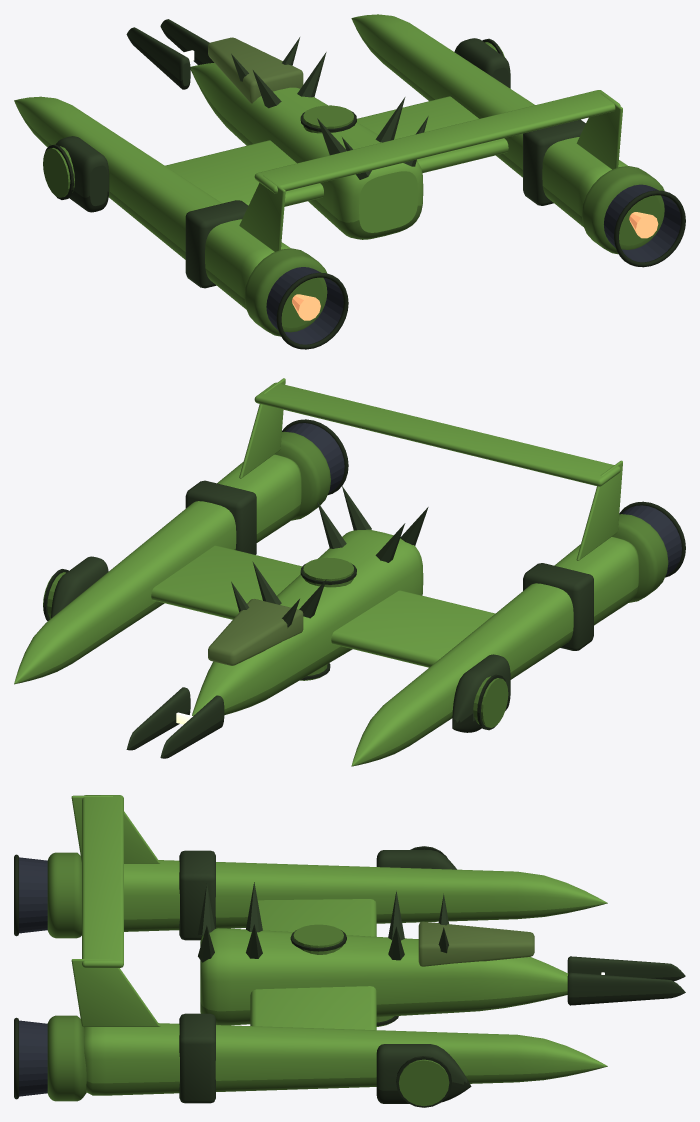
Rendered from mantis.glb.
3 views of the same model, one above another, from view 1: azimuth 30°, elevation 25°; view 2: azimuth 150°, elevation 25°; view 3: azimuth 270°, elevation 25° (orthographic).
Parts seen in each view (by area): view 1: mantis_mesh; view 2: mantis_mesh; view 3: mantis_mesh.
Part boxes in pixels (box(x1,y1,x2,y2)): mantis_mesh: box(14, 14, 685, 349); mantis_mesh: box(14, 378, 685, 766); mantis_mesh: box(14, 795, 685, 1107).
Bounding box in the file's own units: 11.47 × 3.5 × 15.32.
